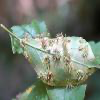Apple rust leaf: (21, 27, 99, 91)
